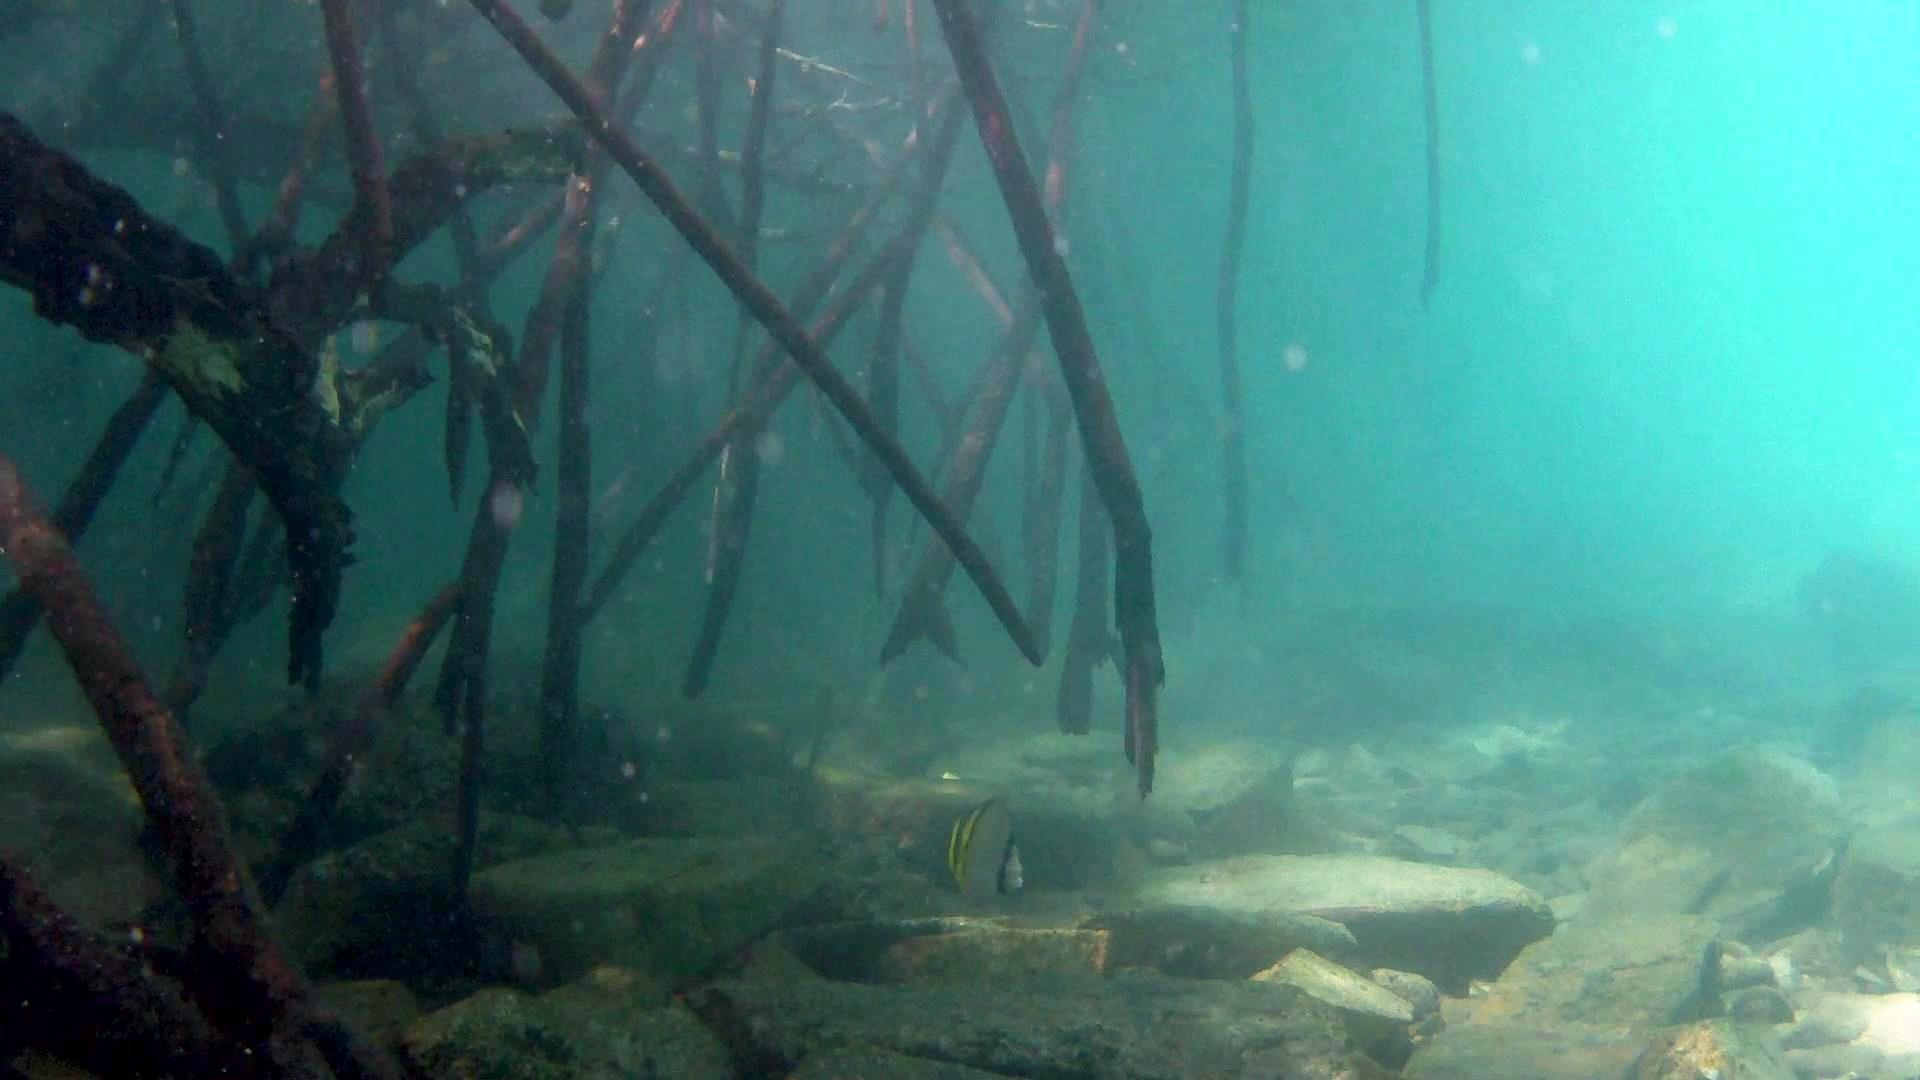chaetodon vagabundus: (943, 794, 1029, 907)
